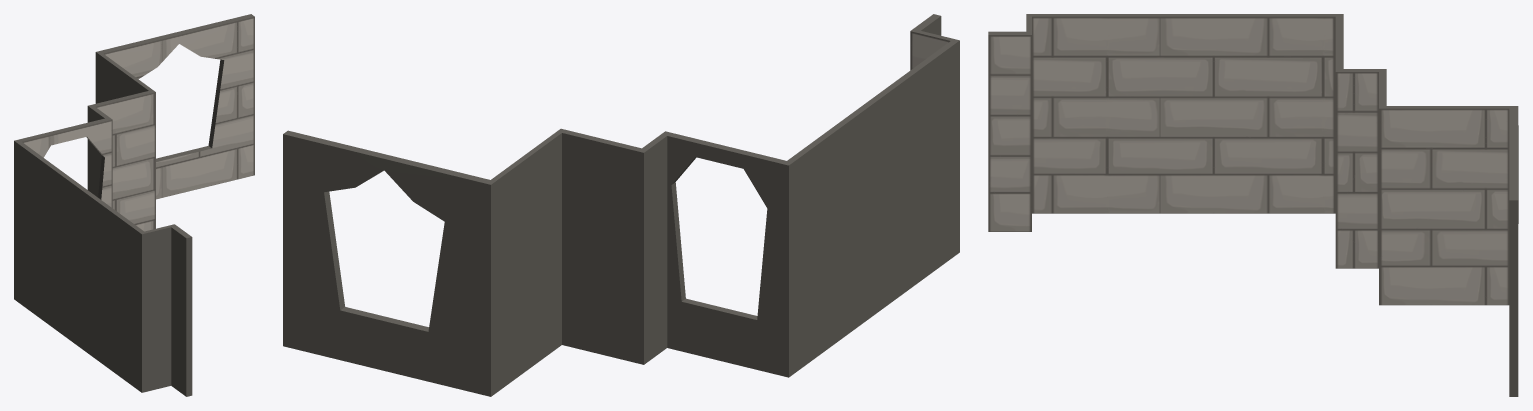
Rendered from wall_LV5.fbx.
3 renders of one model, left to right at view 1: azimuth 30°, elevation 25°; view 2: azimuth 150°, elevation 25°; view 3: azimuth 270°, elevation 25°, orthographic. The views are drawn at different scales.
Visible parts, largest first — view 1: polySurface3; view 2: polySurface3; view 3: polySurface3.
Part boxes in pixels (<box>): polySurface3: <box>14,14,254,396</box>; polySurface3: <box>283,14,959,396</box>; polySurface3: <box>988,14,1518,396</box>.
Size of the model in its own units: 2031 by 1000 by 2442.
